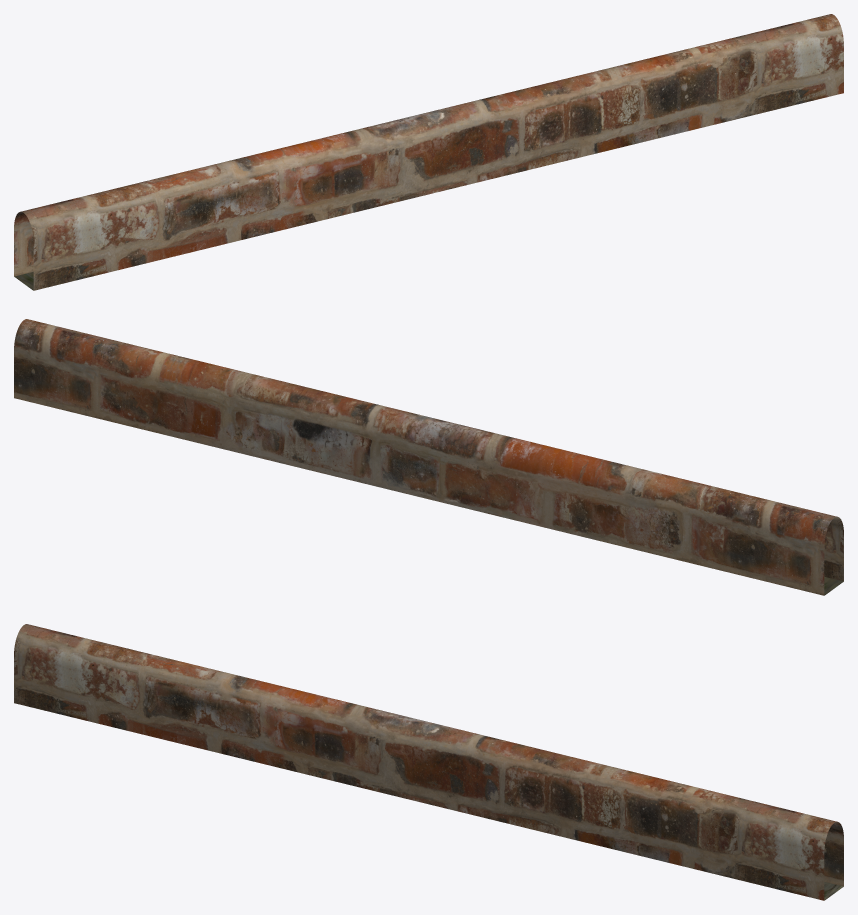
Rendered from tunnel 24m sideways.fbx.
3 renders of one model, top to bottom at view 1: azimuth 30°, elevation 25°; view 2: azimuth 150°, elevation 25°; view 3: azimuth 330°, elevation 25°, orthographic.
Parts seen in each view (by area): view 1: tunnel 24m sideways; view 2: tunnel 24m sideways; view 3: tunnel 24m sideways.
Part boxes in pixels (x1=…): tunnel 24m sideways: x1=14, y1=14, x2=843, y2=290; tunnel 24m sideways: x1=14, y1=319, x2=843, y2=595; tunnel 24m sideways: x1=14, y1=624, x2=843, y2=900.
Size of the model in its own units: 2400 by 100 by 200.
